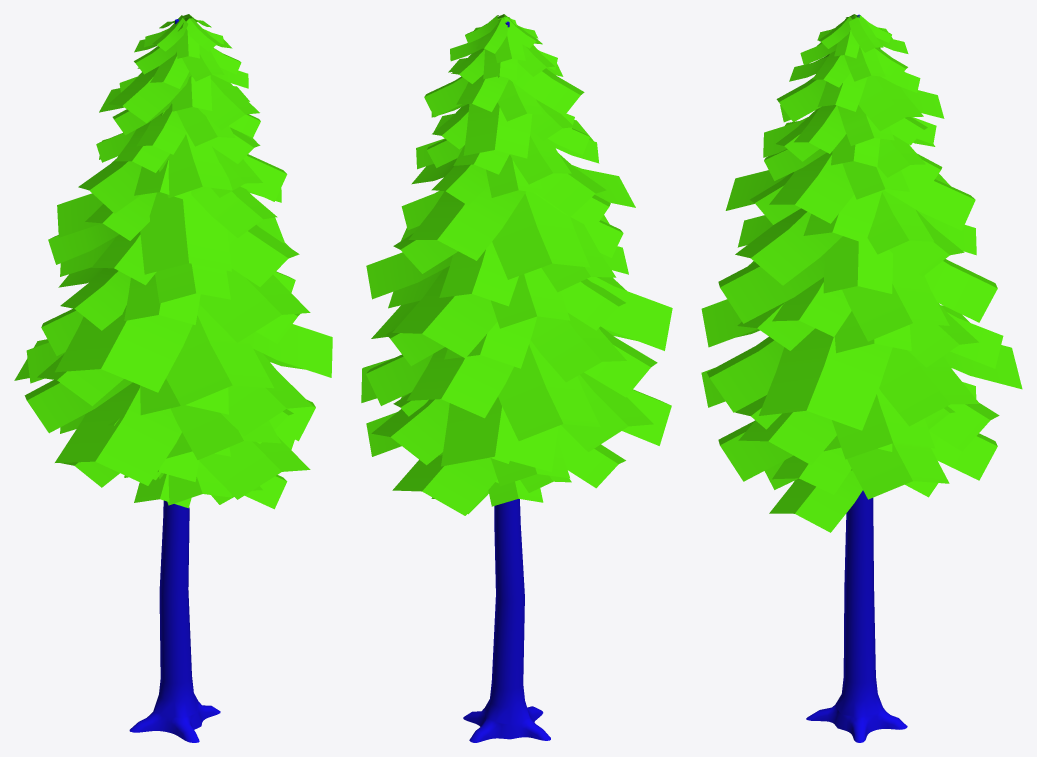
File: Tree_Official.fbx
The picture shows the model from 3 angles, left to right: view 1: azimuth 30°, elevation 25°; view 2: azimuth 150°, elevation 25°; view 3: azimuth 270°, elevation 25°; orthographic projection.
Parts seen in each view (by area): view 1: Cylinder.007, Cylinder.005; view 2: Cylinder.007, Cylinder.005; view 3: Cylinder.007, Cylinder.005.
Part boxes in pixels (<box>): Cylinder.007: <box>14,14,332,509</box>; Cylinder.005: <box>129,19,220,742</box>; Cylinder.007: <box>361,14,672,515</box>; Cylinder.005: <box>463,21,550,742</box>; Cylinder.007: <box>701,14,1022,532</box>; Cylinder.005: <box>806,14,907,742</box>.
Size of the model in its own units: 909 by 2236 by 917.
